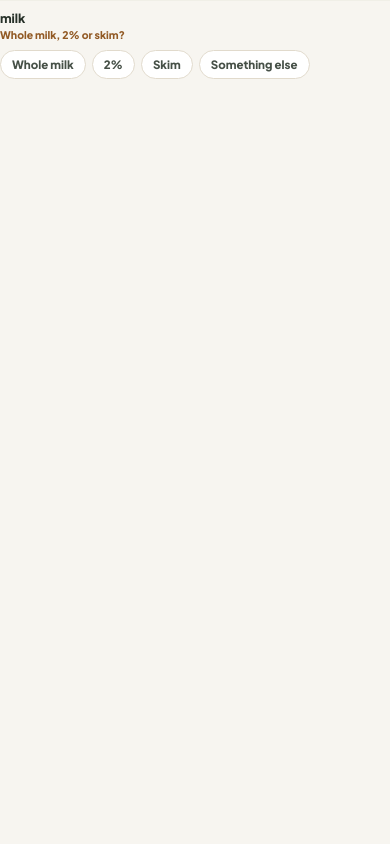
Test: MealAskedRow — the buttons › a refused answer (too long, blank) asks for different words, not "try again"
The width and height of the screenshot is (390, 844).
Click the button "Something else". click: {"x": 254, "y": 64}
box: [199,50,310,79]
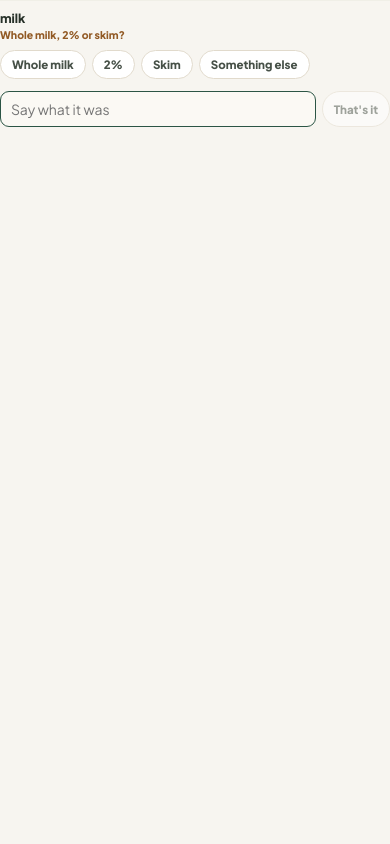
Type "oat" into the field named "What the milk was". click: {"x": 158, "y": 109}
box: [0,91,316,127]
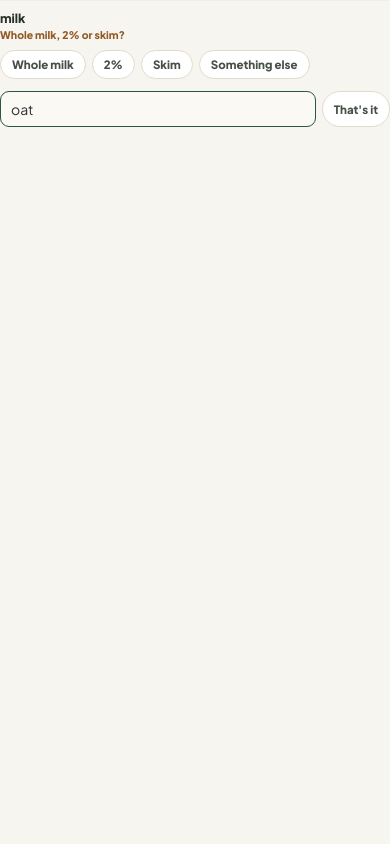
Click the button "That's it". click: {"x": 356, "y": 109}
box: [322,91,389,127]
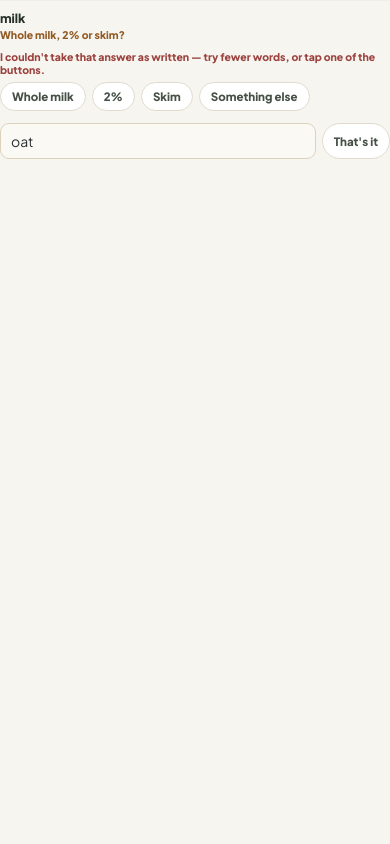
Result: the text "I couldn't take that answer as written — try fewer words, or tap one of the buttons." is shown at [0,50,375,76]
